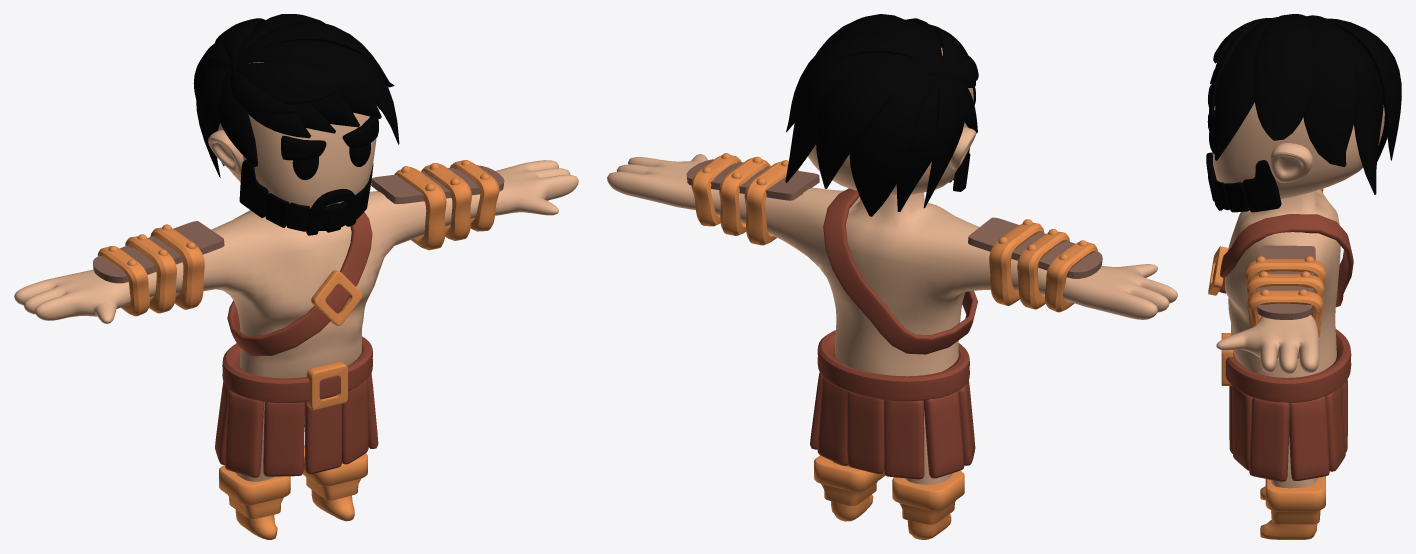
Rendered from CaballeroSinNombre.fbx.
3 views of the same model, side by side, from view 1: azimuth 30°, elevation 25°; view 2: azimuth 150°, elevation 25°; view 3: azimuth 270°, elevation 25° (orthographic).
Parts seen in each view (by area): view 1: Cube.002, NurbsPath.008, Cube.004, Cube, Torus.001, Torus.002, BezierCircle, Torus.005, Cube.022, Cube.005, Cube.021, Cube.003 (+8 smaller); view 2: Cube.002, NurbsPath.008, Cube.004, BezierCircle, Torus.001, Torus.002, Torus.005, Cube.022, Cube.005, Cube.021, Cube.003, Cube; view 3: NurbsPath.008, Cube.002, Cube.004, Cube, Torus.002, Torus.005, BezierCircle, Cube.021, Cube.003, Cube.008, Cube.020, Cube.019 (+4 smaller).
Part boxes in pixels (x1,y1,x2,y2): Cube.002: (14, 160, 578, 539); NurbsPath.008: (193, 14, 399, 177); Cube.004: (215, 373, 378, 477); Cube: (218, 62, 376, 208); Torus.001: (97, 224, 204, 316); Torus.002: (394, 160, 499, 250); BezierCircle: (227, 212, 372, 356); Torus.005: (222, 336, 372, 403); Cube.022: (219, 465, 290, 518); Cube.005: (93, 221, 224, 283); Cube.021: (302, 445, 367, 500); Cube.003: (371, 165, 504, 204); Cube.002: (607, 154, 1177, 539); NurbsPath.008: (785, 14, 978, 216); Cube.004: (810, 372, 975, 479); BezierCircle: (823, 188, 977, 354); Torus.001: (989, 219, 1097, 312); Torus.002: (691, 153, 798, 245); Torus.005: (817, 330, 969, 401); Cube.022: (892, 471, 964, 524); Cube.005: (968, 217, 1102, 278); Cube.021: (814, 455, 885, 505); Cube.003: (686, 159, 819, 200); Cube: (808, 47, 973, 195); NurbsPath.008: (1210, 14, 1401, 194); Cube.002: (1216, 189, 1340, 539); Cube.004: (1229, 379, 1347, 481); Cube: (1212, 102, 1384, 198); Torus.002: (1245, 256, 1326, 337); Torus.005: (1225, 329, 1351, 403); BezierCircle: (1212, 214, 1353, 307); Cube.021: (1265, 476, 1325, 524); Cube.003: (1257, 245, 1315, 319); Cube.008: (1270, 143, 1312, 182); Cube.020: (1243, 160, 1281, 212); Cube.019: (1224, 182, 1249, 212).
Size of the model in its own units: 794 by 688 by 245.
